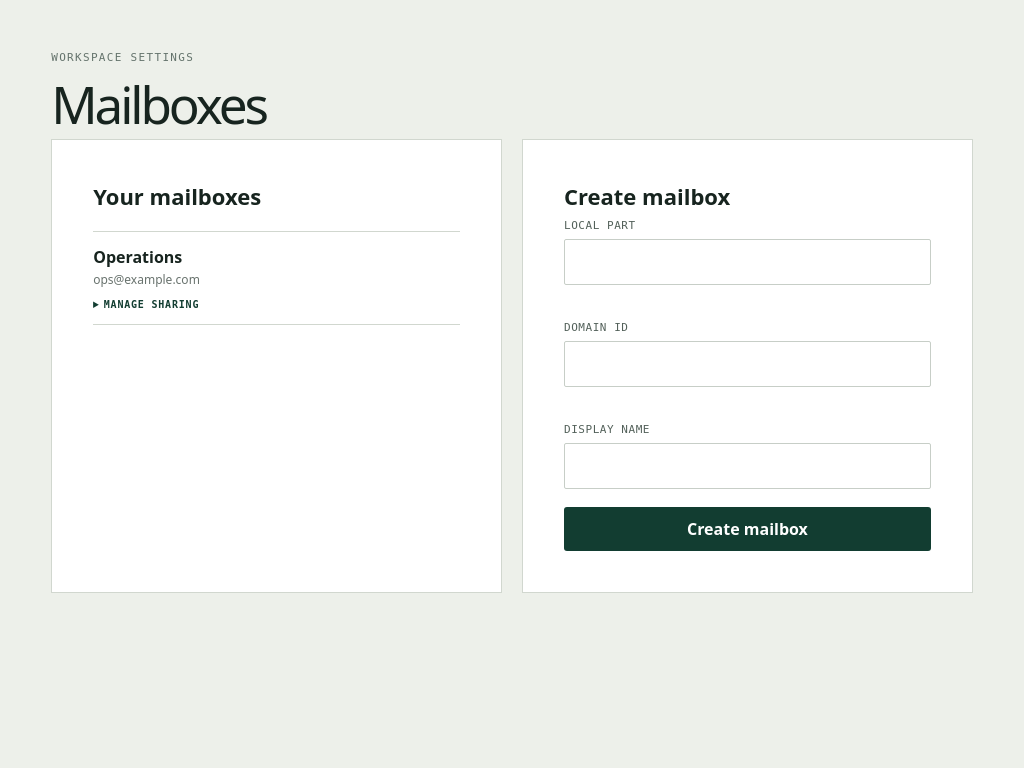
Test: authenticated settings › shows localized validation before sharing a mailbox with an invalid member ID
Click the heading "Manage sharing": (146, 305) [93,299,199,310]
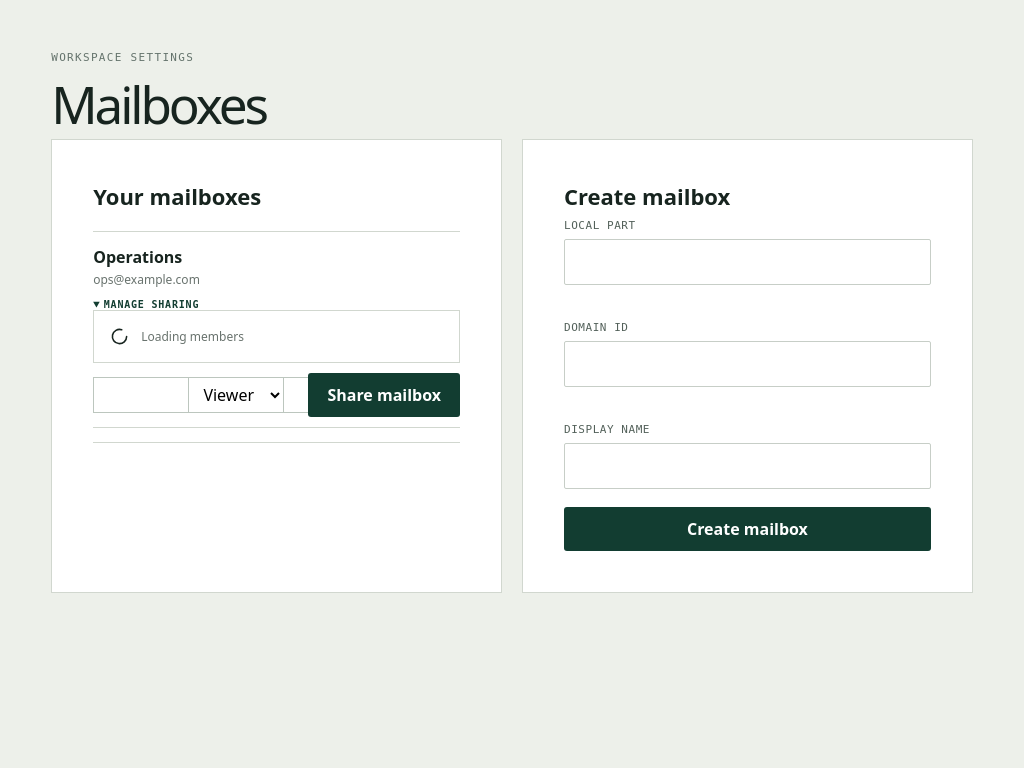
In the field named "Member user ID": (220, 395) [93,377,346,413], type "not-a-member-uuid"
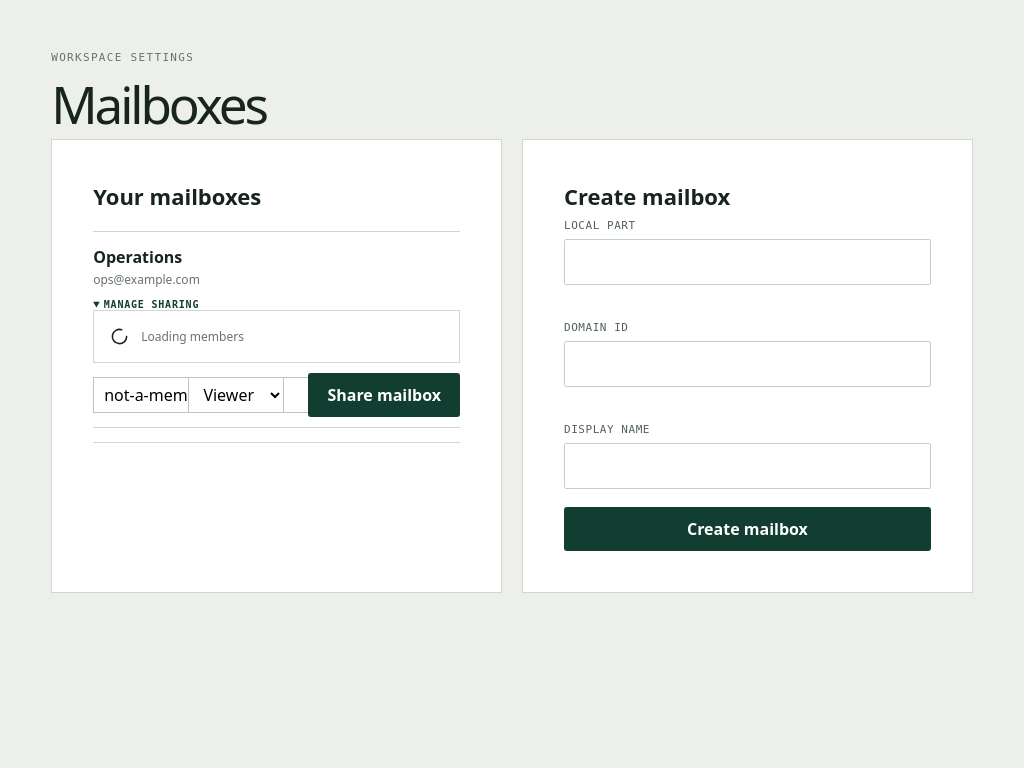
Click the button "Share mailbox": (384, 395) [308,373,460,417]
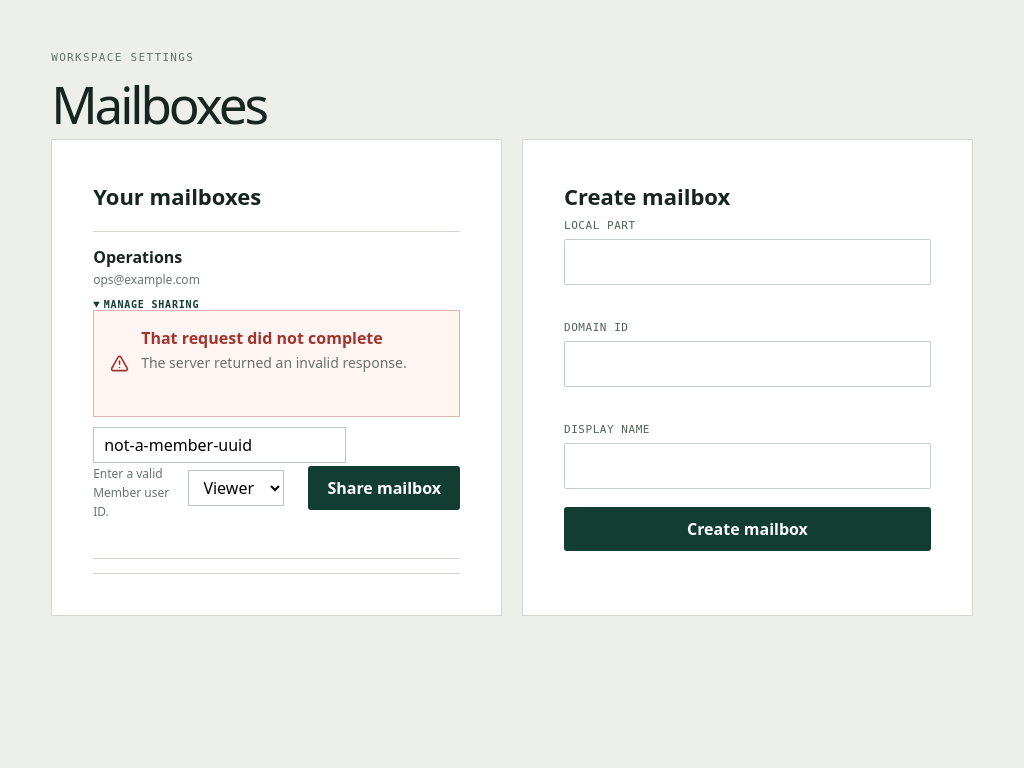
Now the message "Enter a valid Member user ID." is shown, box [93,463,178,520]
